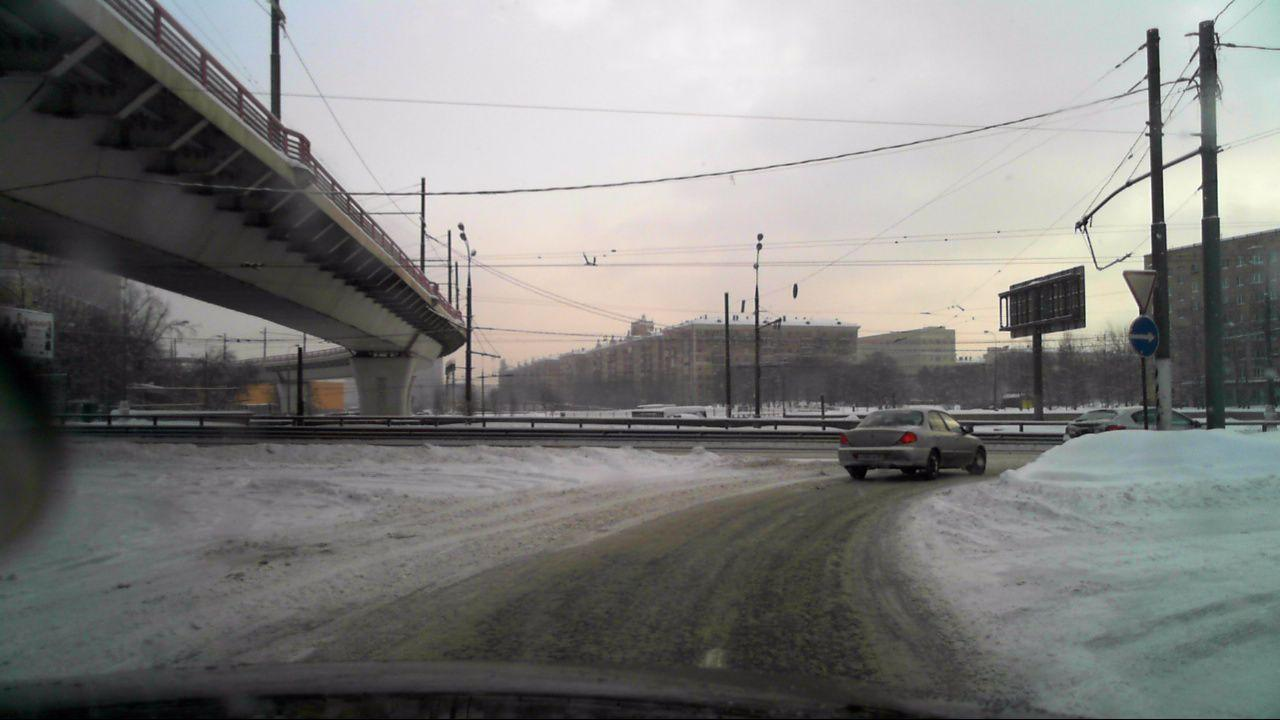2_4: (1121, 268, 1158, 313)
4_2_1: (1129, 316, 1159, 356)
